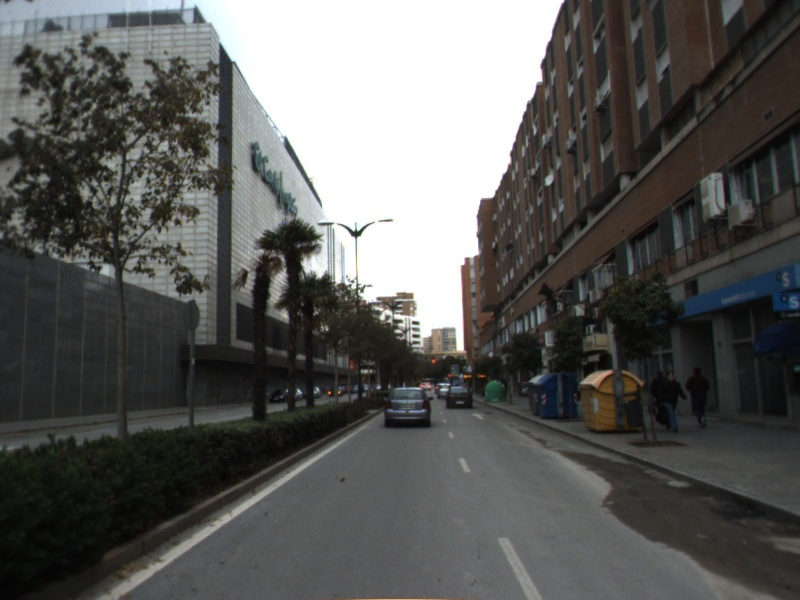STRAIGHT: (469, 411, 487, 422)
